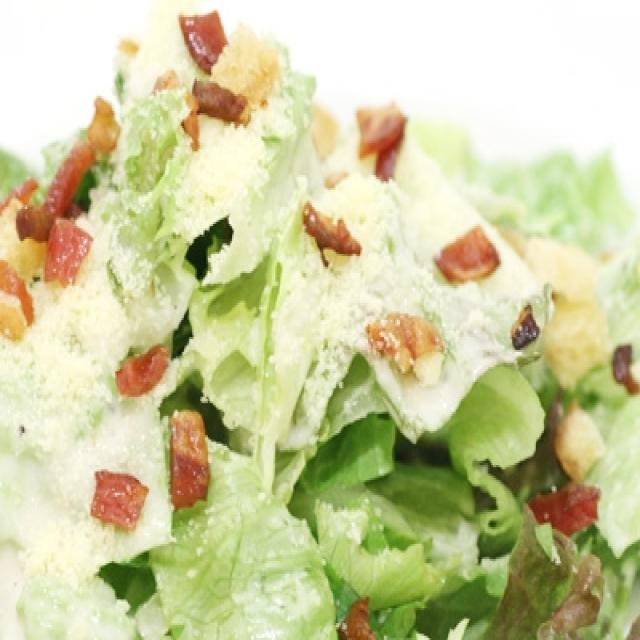蔬菜料理: (18, 21, 632, 630)
